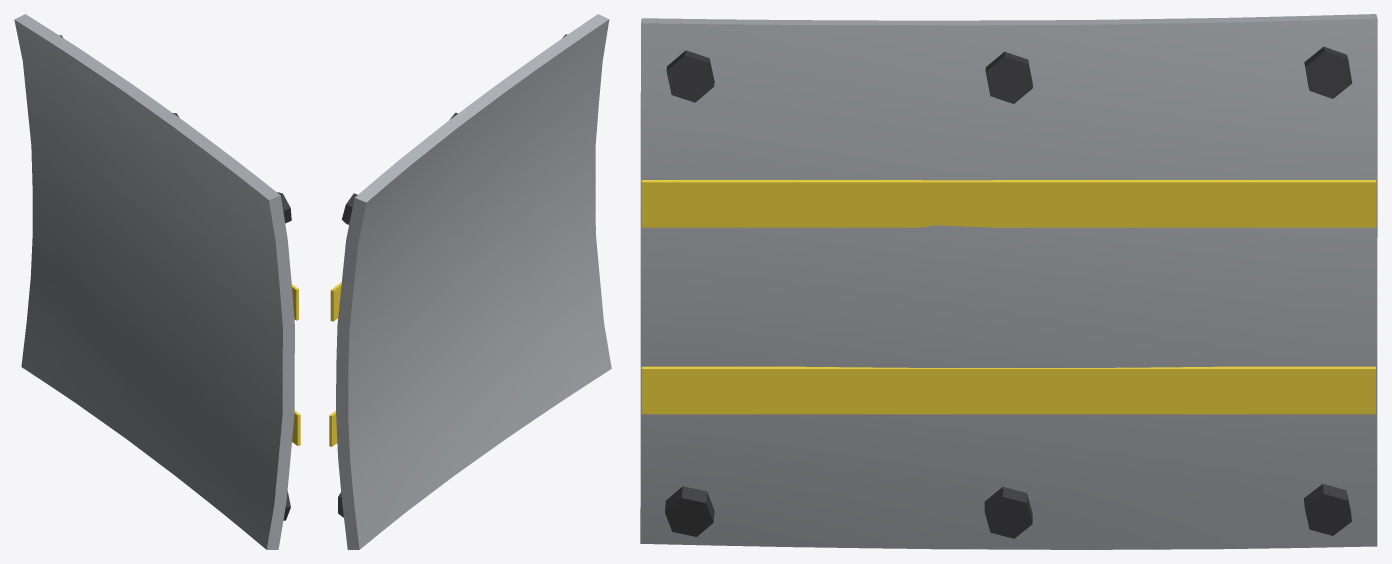
Rendered from SM_Sub2_HullPatch.fbx.
The picture shows the model from 3 angles, left to right: view 1: azimuth 30°, elevation 25°; view 2: azimuth 150°, elevation 25°; view 3: azimuth 270°, elevation 25°; orthographic projection. The views are drawn at different scales.
Parts seen in each view (by area): view 1: SM_Sub2_HullPatch; view 2: SM_Sub2_HullPatch; view 3: SM_Sub2_HullPatch.
Boxes of the visible parts, x1=… form: SM_Sub2_HullPatch: x1=14, y1=14, x2=300, y2=549; SM_Sub2_HullPatch: x1=329, y1=14, x2=611, y2=549; SM_Sub2_HullPatch: x1=640, y1=14, x2=1377, y2=549.
Bounding box in the file's own units: 0.0442 × 0.3456 × 0.4416.
